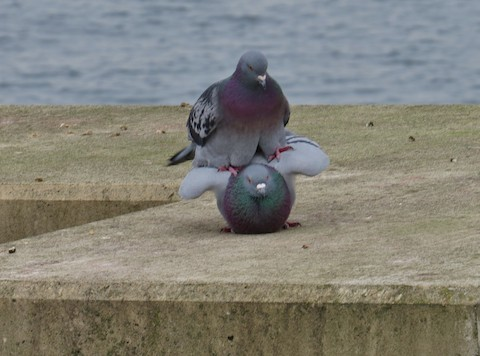pigeon: (165, 47, 330, 186), (205, 124, 328, 234)
